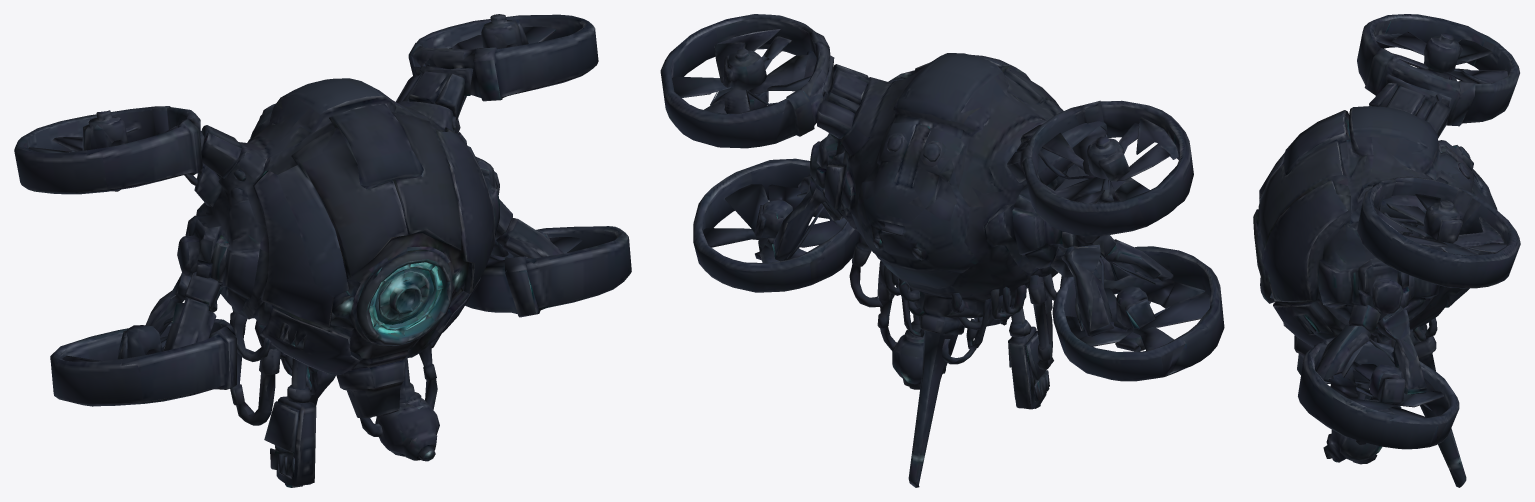
File: drone-watcher.glb
3 renders of one model, left to right at view 1: azimuth 30°, elevation 25°; view 2: azimuth 150°, elevation 25°; view 3: azimuth 270°, elevation 25°, orthographic. The views are drawn at different scales.
Bounding box in the file's own units: 0.9526 × 0.6997 × 0.4536.
Materials: 1 (1 with a texture image).
